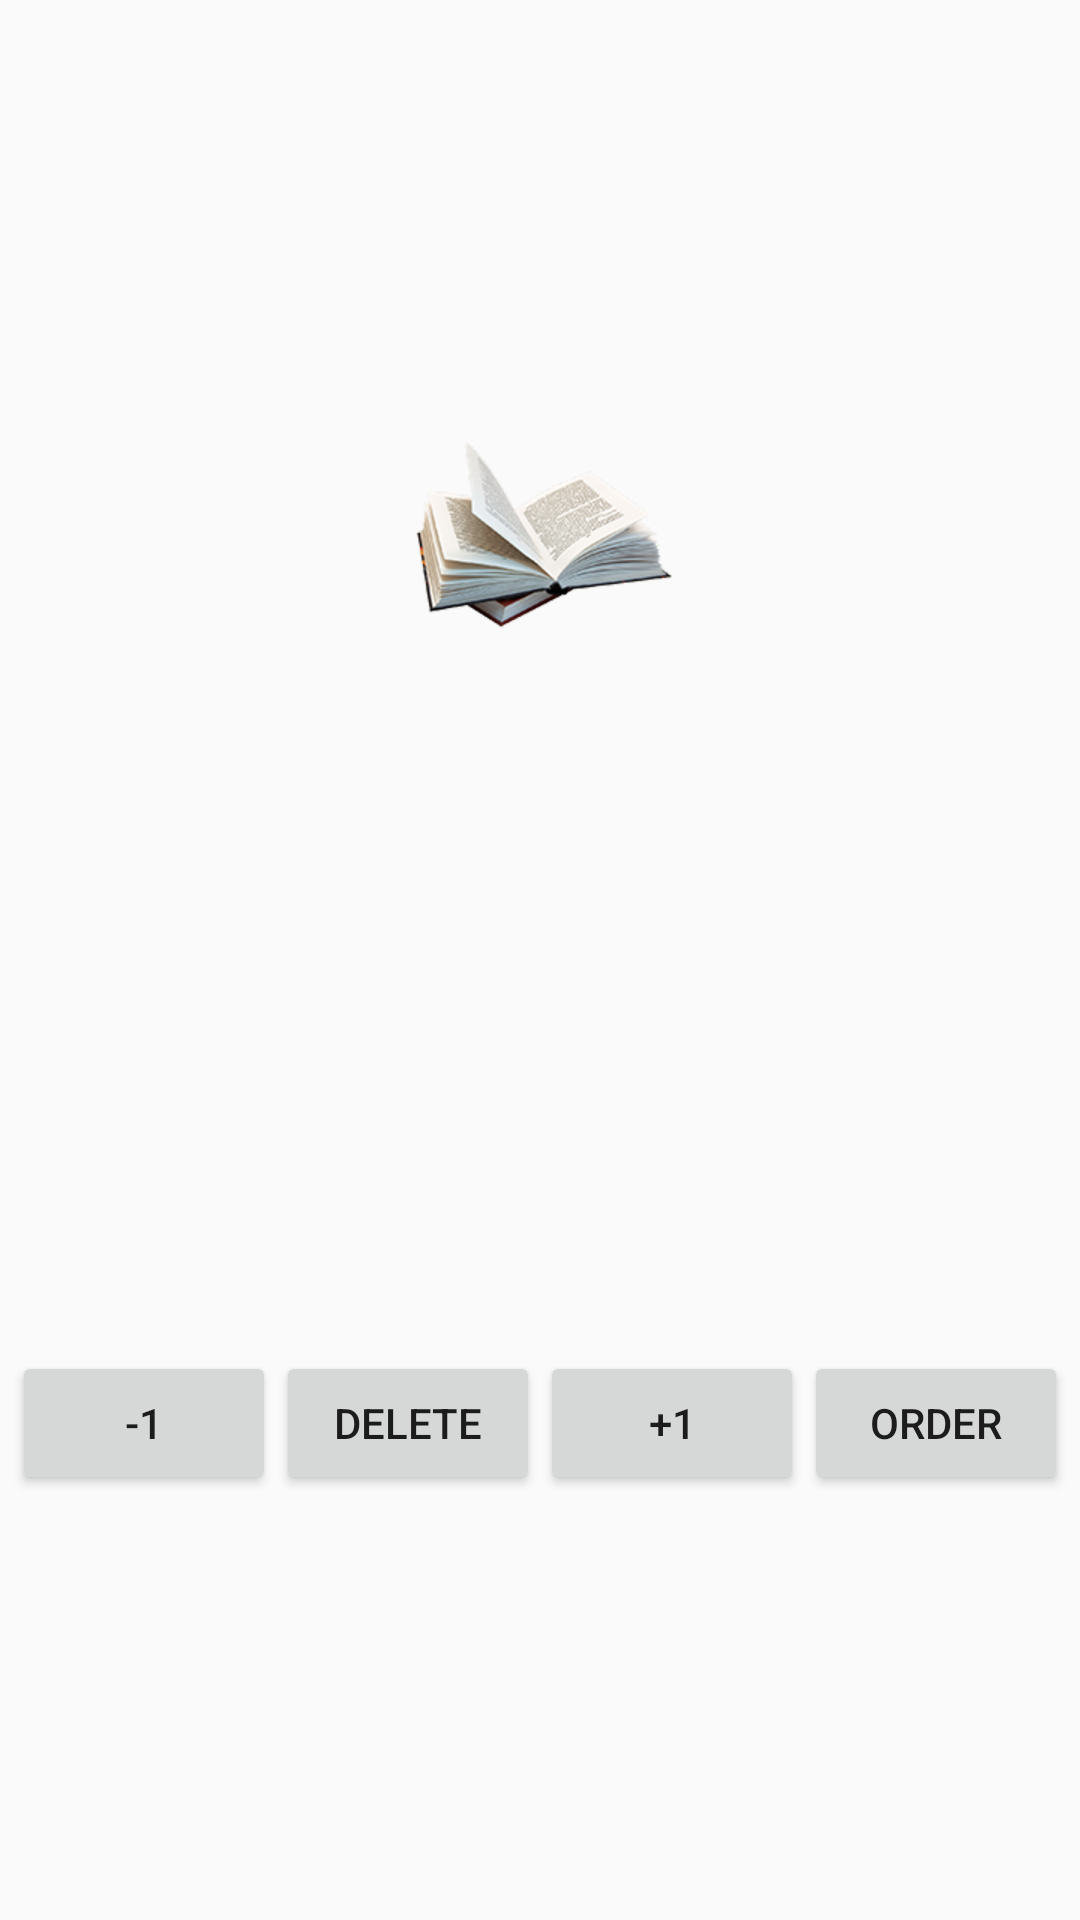

Where icons sit on this 1080*1920 app screen, as {"x1": x1, "y1": y1, "x2": x2, "y2": y2}:
openbook: {"x1": 417, "y1": 446, "x2": 672, "y2": 627}
